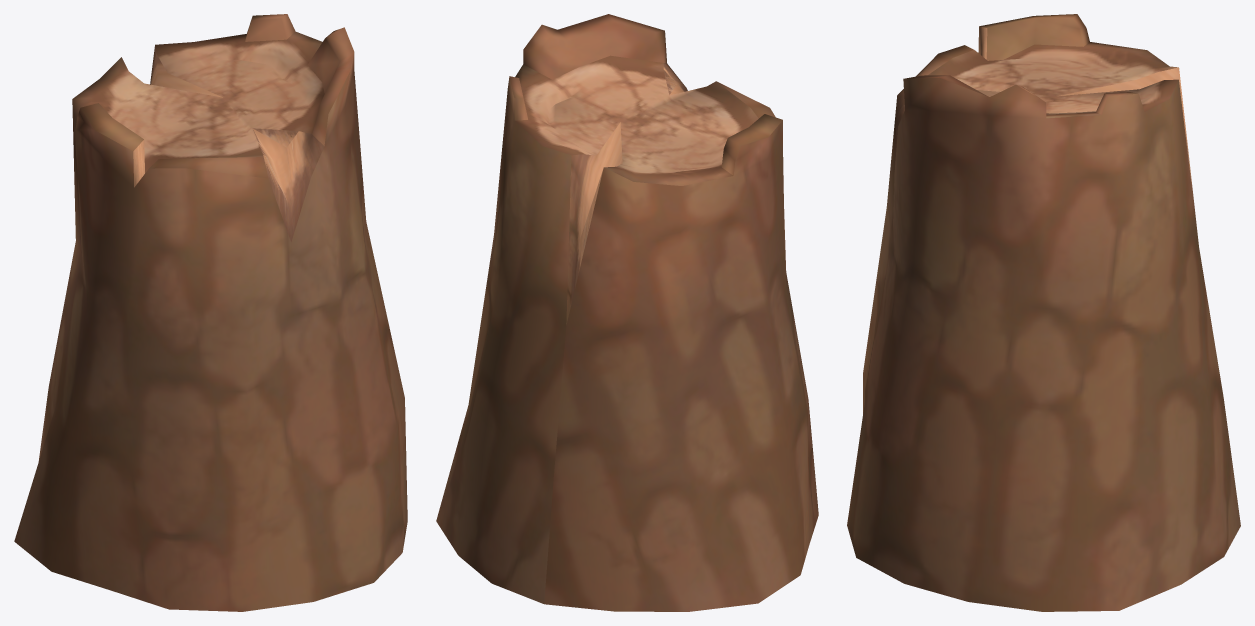
The model's file is P_FirStump1.obj.
The picture shows the model from 3 angles, left to right: view 1: azimuth 30°, elevation 25°; view 2: azimuth 150°, elevation 25°; view 3: azimuth 270°, elevation 25°; orthographic projection. The views are drawn at different scales.
Size of the model in its own units: 1.25 by 1.72 by 1.23.
